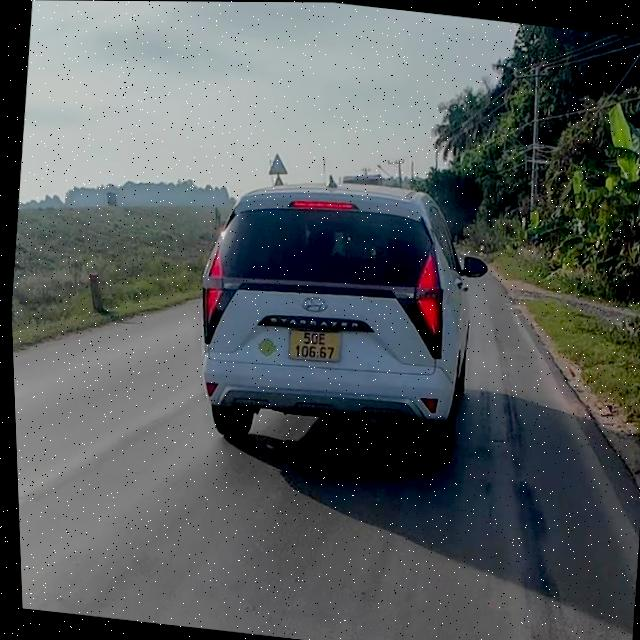car: (174, 159, 508, 477)
plate: (278, 319, 349, 368)
